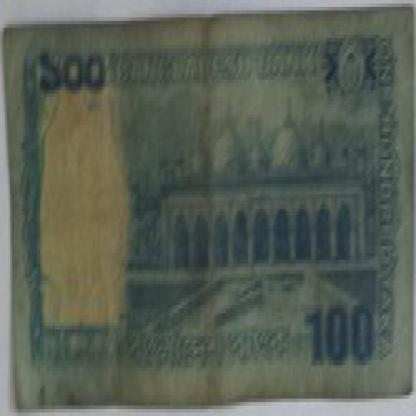one hundred taka: (301, 298, 381, 368), (30, 48, 115, 100)
